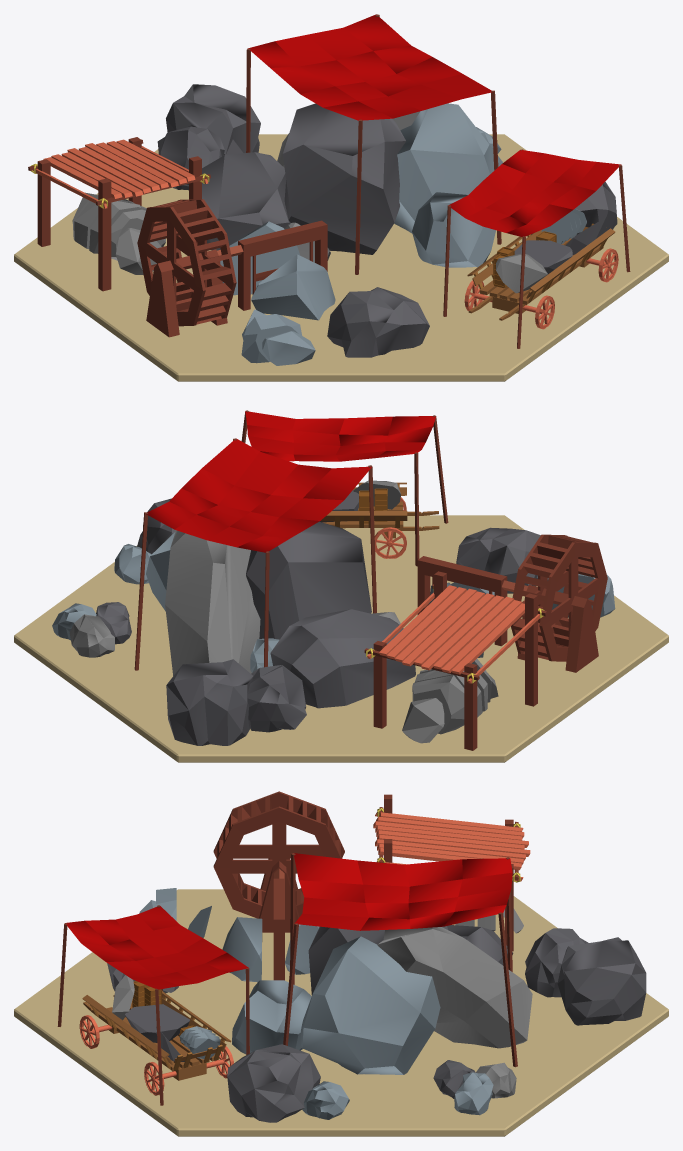
File: quarry.gltf
The picture shows the model from 3 angles, top to bottom: view 1: azimuth 30°, elevation 25°; view 2: azimuth 150°, elevation 25°; view 3: azimuth 270°, elevation 25°; orthographic projection.
Parts seen in each view (by area): view 1: Caseta_Brown Red Dark - Wood_0; view 2: Caseta_Brown Red Dark - Wood_0; view 3: Caseta_Brown Red Dark - Wood_0.
Boxes of the visible parts, bbox=[...] form: Caseta_Brown Red Dark - Wood_0: bbox=[14, 14, 668, 381]; Caseta_Brown Red Dark - Wood_0: bbox=[14, 410, 668, 762]; Caseta_Brown Red Dark - Wood_0: bbox=[14, 791, 668, 1136].
Bounding box in the file's own units: 18.98 × 6.68 × 21.87.
